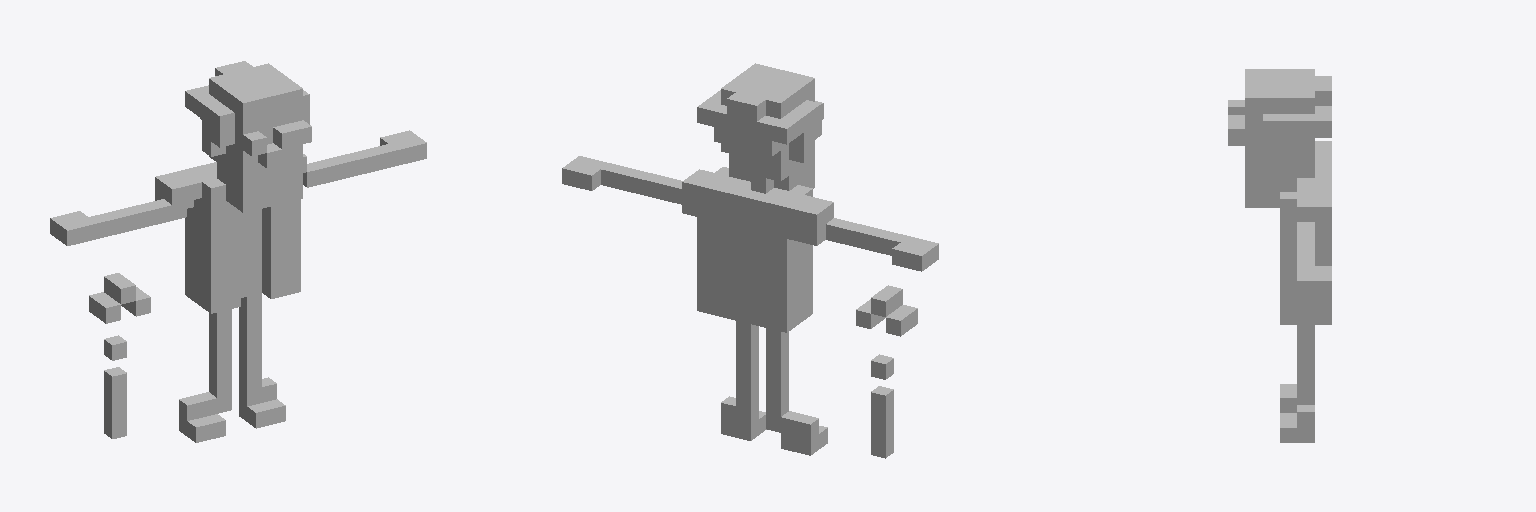
Rendered from test_oldman.obj.
The picture shows the model from 3 angles: view 1: azimuth 30°, elevation 25°; view 2: azimuth 150°, elevation 25°; view 3: azimuth 270°, elevation 25°; orthographic projection.
Visible parts, largest first — view 1: ObjObject.054; view 2: ObjObject.054; view 3: ObjObject.054.
Part boxes in pixels (left/top/right/bottom): ObjObject.054: left=50, top=61, right=426, bottom=442; ObjObject.054: left=562, top=63, right=938, bottom=458; ObjObject.054: left=1228, top=69, right=1331, bottom=442.
Bounding box in the file's own units: 2.4 × 2.2 × 0.6.